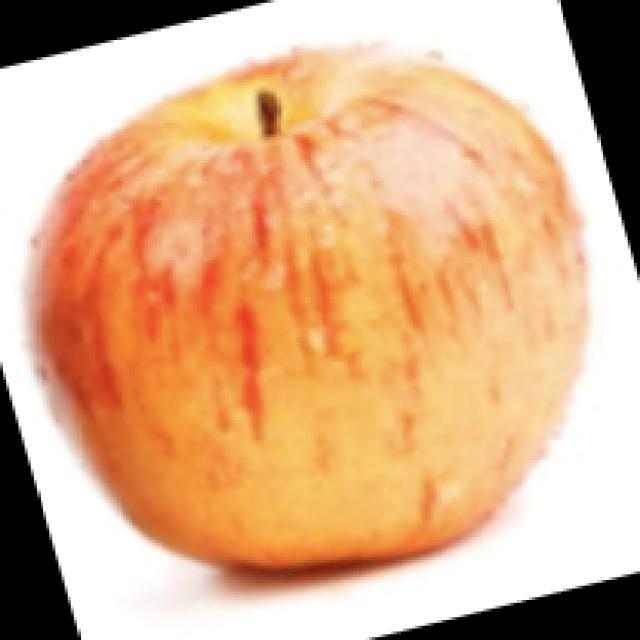Apple: (28, 41, 591, 573)
